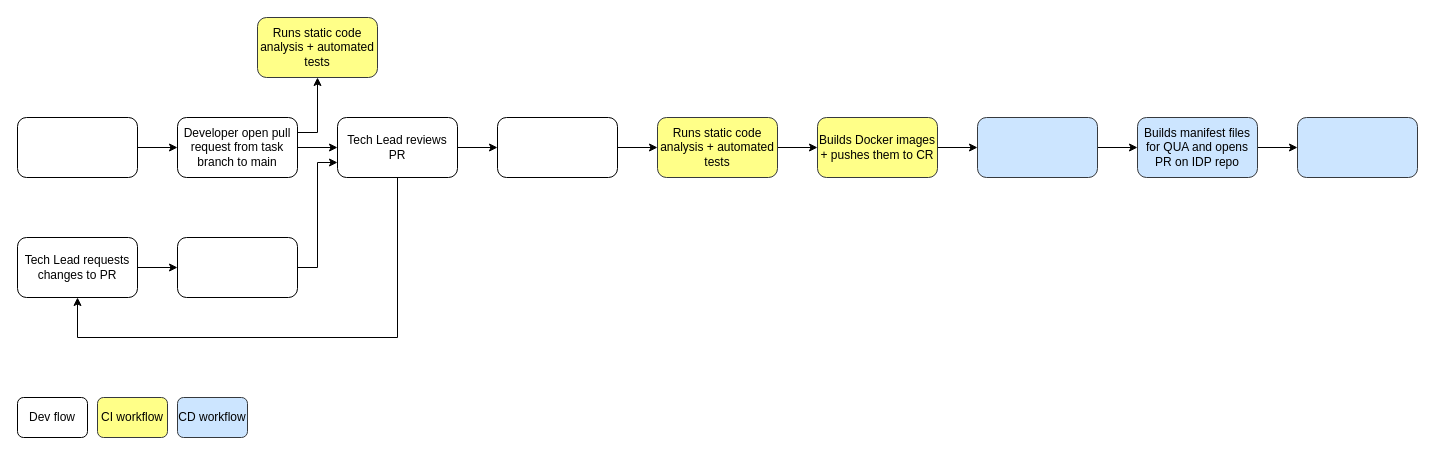
This 1435x455 diagram has some shape labels left out. The shapes that lost their labels are listed below. From the top down, each one's centre as x and y in pixels, then its label:
At (77,147): "Developer creates branch from main to work on task".
At (557,147): "Tech Lead approves PR and merges into main".
At (1037,147): "Builds manifest files for DEV and opens PR on IDP repo".
At (1357,147): "Builds manifest files for PRD and opens PR on IDP repo".
At (237,267): "Developer makes changes and updates PR".
